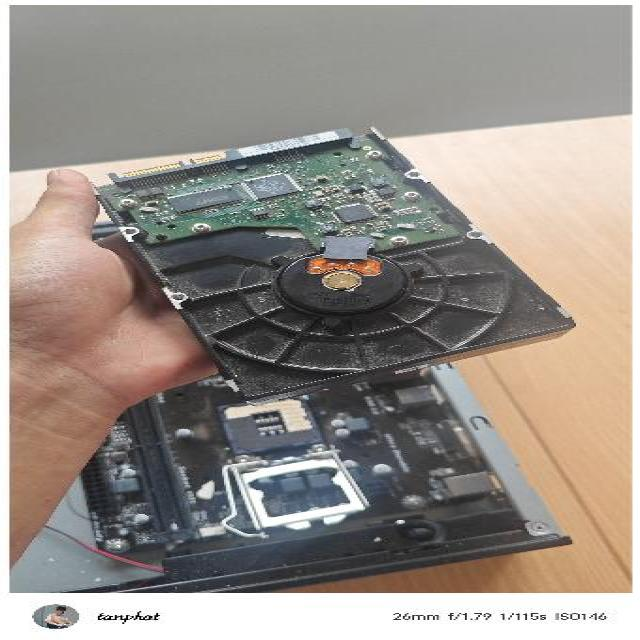DISK: (75, 120, 582, 406)
